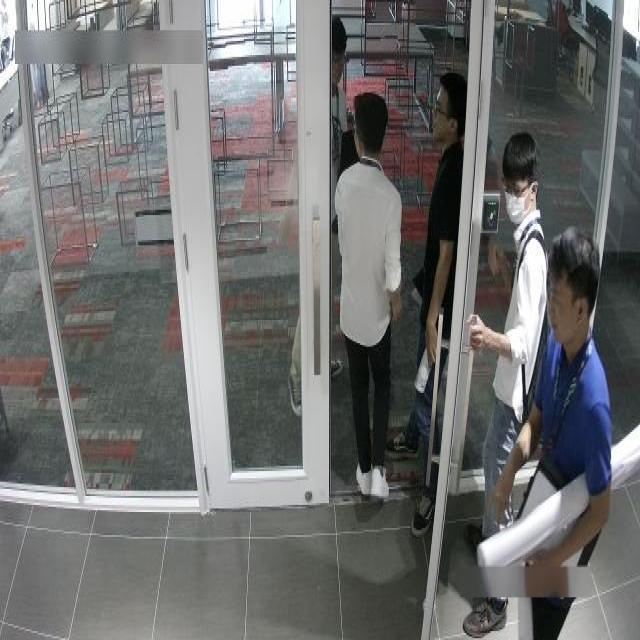bare_hand: (464, 295, 496, 373), (494, 471, 520, 524), (422, 309, 444, 370), (384, 297, 412, 334)
